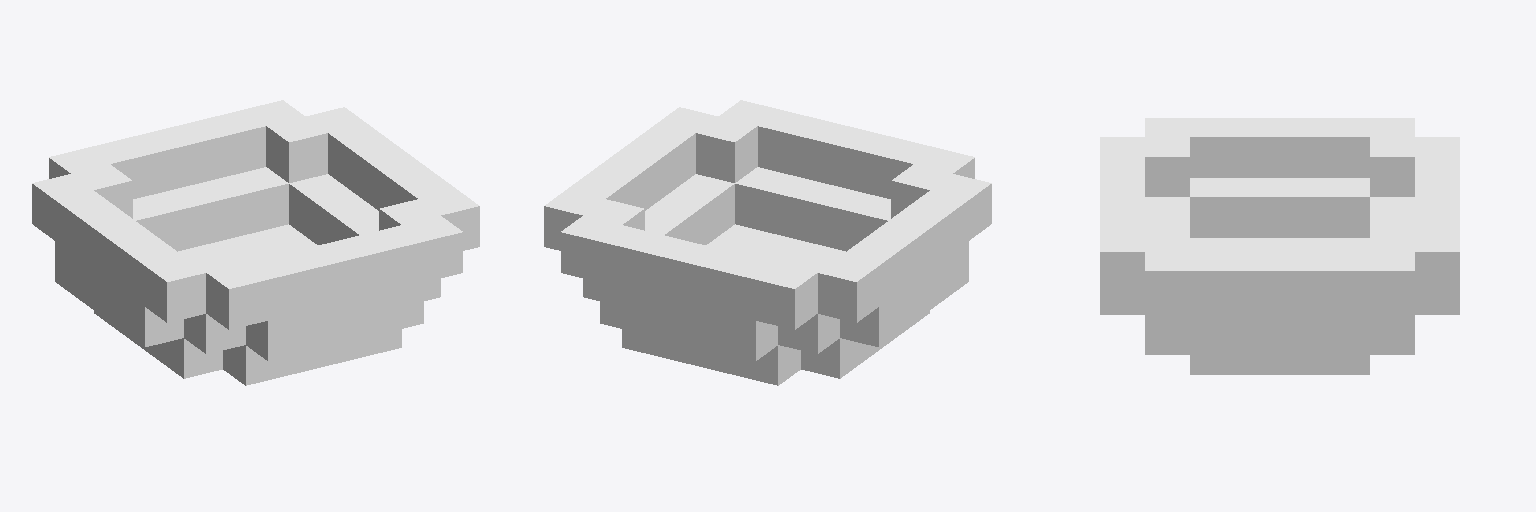
File: glue_bowl1.obj
3 renders of one model, left to right at view 1: azimuth 30°, elevation 25°; view 2: azimuth 150°, elevation 25°; view 3: azimuth 270°, elevation 25°, orthographic.
Parts seen in each view (by area): view 1: object 1; view 2: object 1; view 3: object 1.
Part boxes in pixels (x1,y1,x2,y2): object 1: (32,100,479,385); object 1: (544,100,991,385); object 1: (1100,118,1459,374).
Bounding box in the file's own units: 0.8 × 0.3 × 0.8.